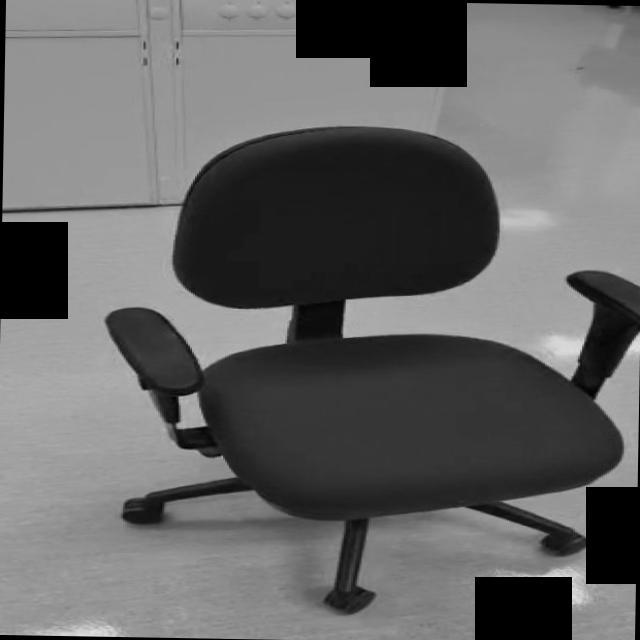chair: (100, 121, 640, 617)
